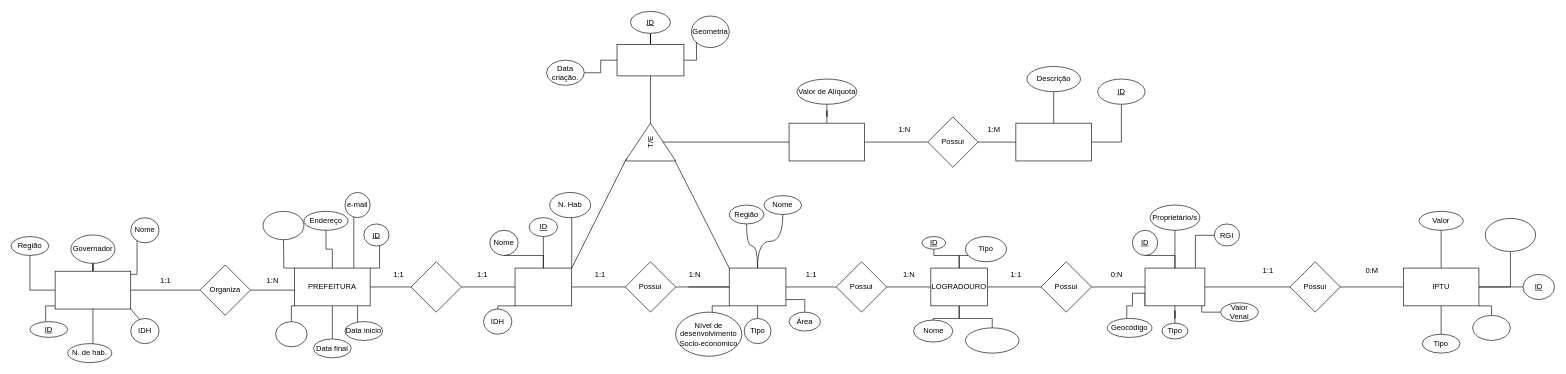
This 1566x374 diagram has some shape labels left out. Here are the shapes that lost their labels. From the top down, the box of each, then its label:
(616, 44, 684, 76): POLÍGONO
(788, 123, 865, 161): AREAS
(1015, 123, 1091, 161): TIPOS
(262, 211, 304, 240): Telefone
(1485, 218, 1536, 251): Data Venc.
(54, 271, 131, 309): ESTADO / UN. FEDERATIVA
(410, 261, 461, 312): Governa
(514, 267, 572, 306): CIDADE
(729, 267, 786, 306): BAIRRO
(1144, 267, 1205, 306): IMÓVEL
(275, 321, 307, 347): Prefeito
(965, 327, 1019, 353): Código Municipal
(1472, 315, 1510, 341): Data de Cadastro
